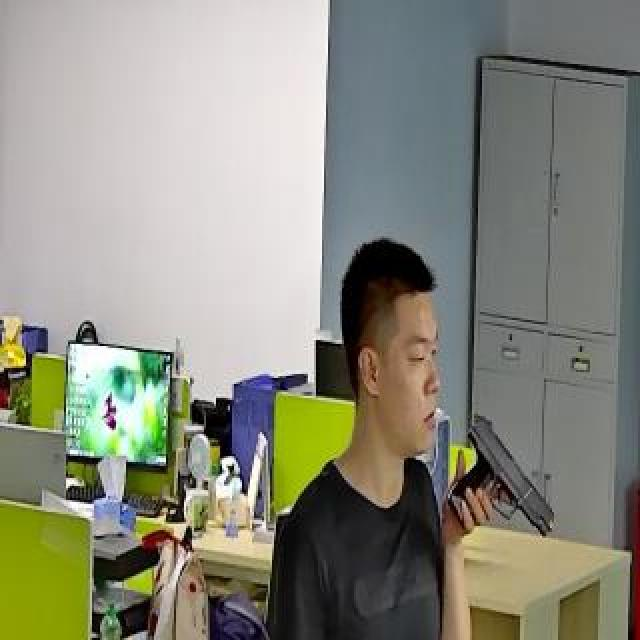Guns: (438, 397, 572, 573)
